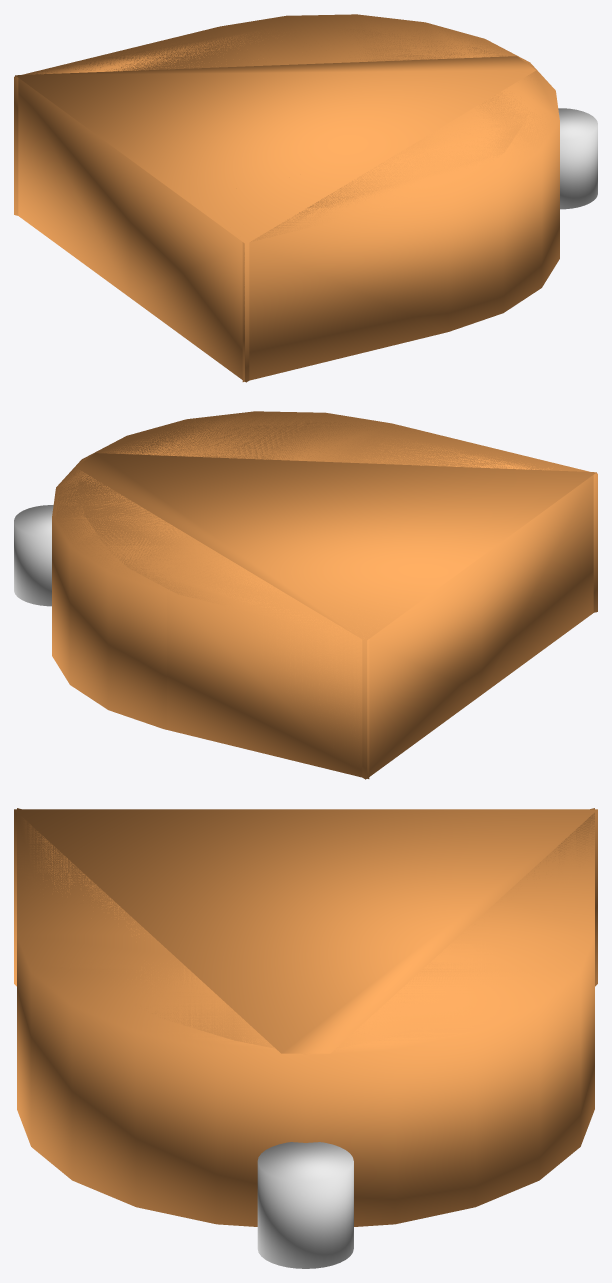
Rendered from AND.glb.
The picture shows the model from 3 angles, top to bottom: view 1: azimuth 30°, elevation 25°; view 2: azimuth 150°, elevation 25°; view 3: azimuth 270°, elevation 25°; orthographic projection. The views are drawn at different scales.
Parts seen in each view (by area): view 1: 2, 1, 4, 3, Cot1, Cot2; view 2: 4, 1, 2, 3, Cot1, Cot2; view 3: 2, 1, 4, Cot1, 3, Cot2.
Part boxes in pixels (x1,y1,x2,y2): 2: [63, 14, 559, 380]; 1: [15, 56, 535, 382]; 4: [18, 16, 550, 379]; 3: [14, 25, 528, 381]; Cot1: [558, 108, 597, 209]; Cot2: [560, 126, 597, 207]; 4: [55, 412, 593, 778]; 1: [76, 453, 596, 779]; 2: [52, 411, 589, 729]; 3: [78, 422, 597, 778]; Cot1: [14, 505, 53, 606]; Cot2: [14, 526, 51, 604]; 2: [17, 812, 594, 1226]; 1: [14, 809, 597, 1053]; 4: [17, 813, 594, 1051]; Cot1: [257, 1142, 353, 1268]; 3: [17, 808, 594, 1054]; Cot2: [257, 1143, 353, 1266].
Bounding box in the file's own units: 3.52 × 1 × 3.03.
